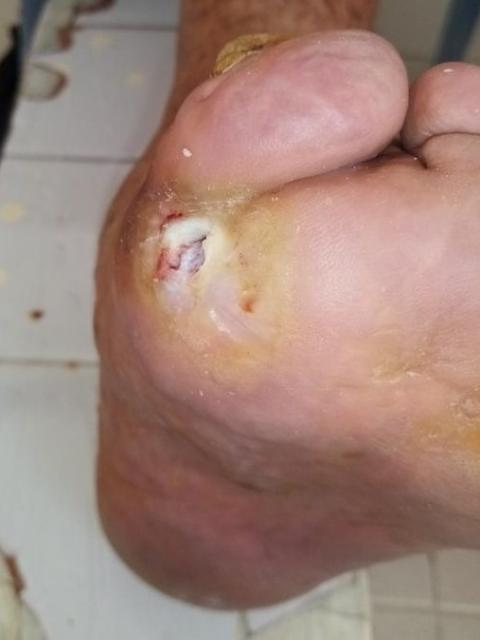wound: (143, 202, 212, 317), (238, 293, 263, 315)
